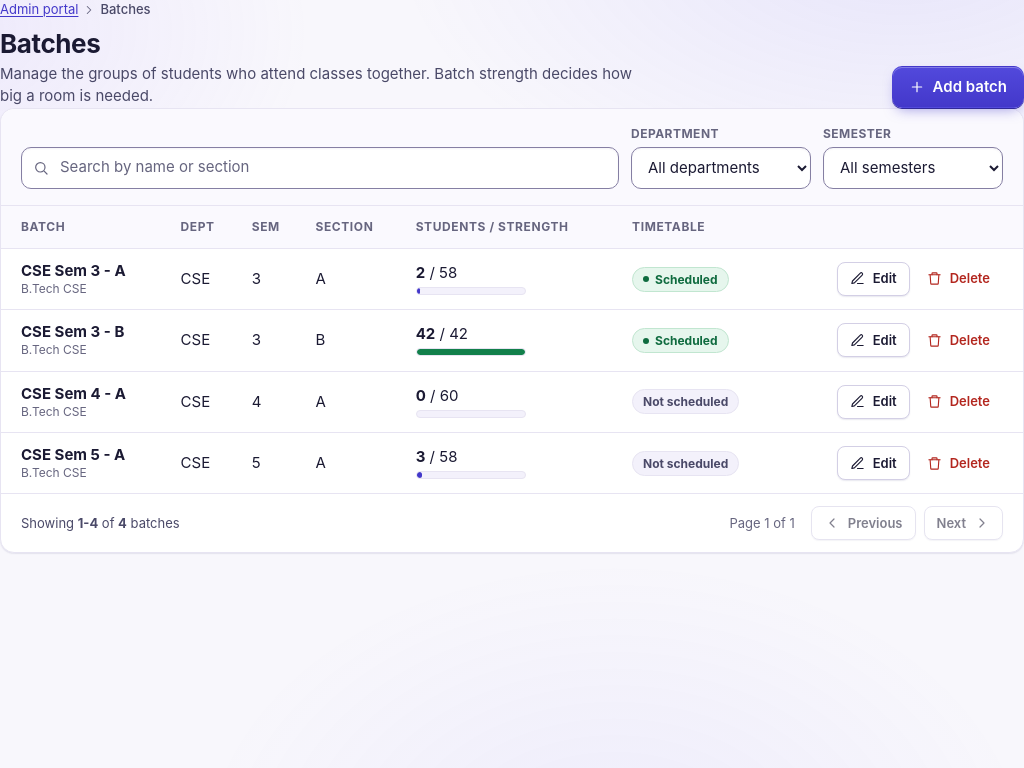
Test: Batches screen - create (DIY-TC04) › reports every missing field and sends nothing
The image size is (1024, 768).
Step 1. Click the button "Add batch" → point(958, 87), box x1=892 y1=66 x2=1023 y2=108
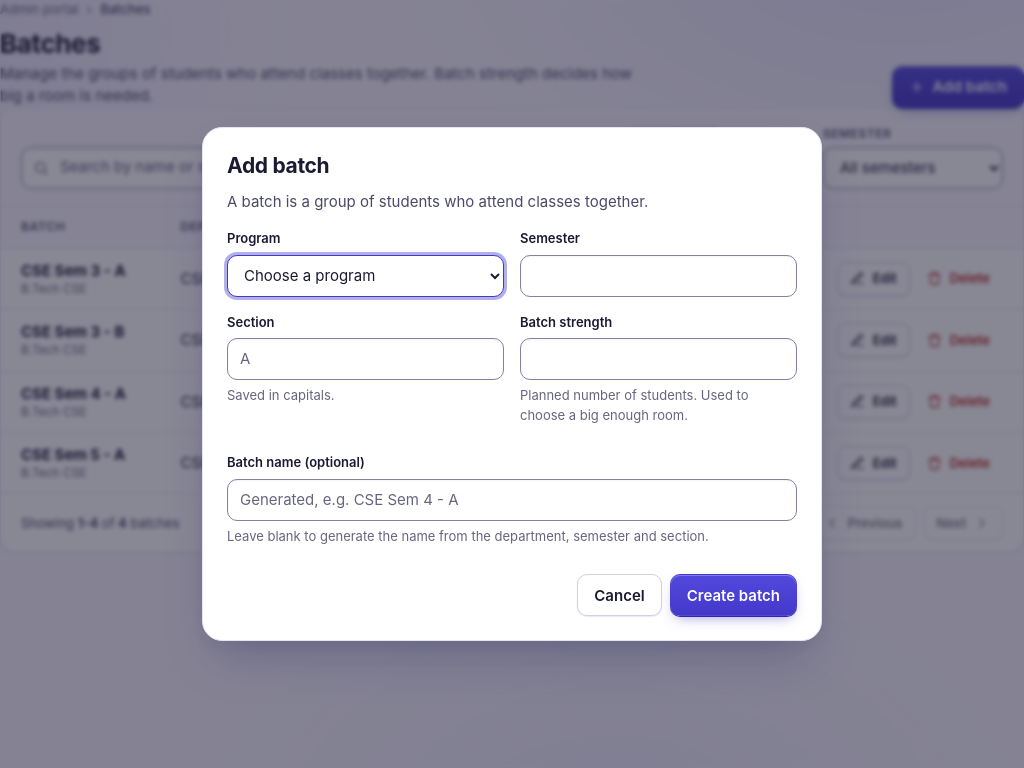
Step 2. Click the button "Create batch" → point(733, 595), box x1=670 y1=574 x2=797 y2=616
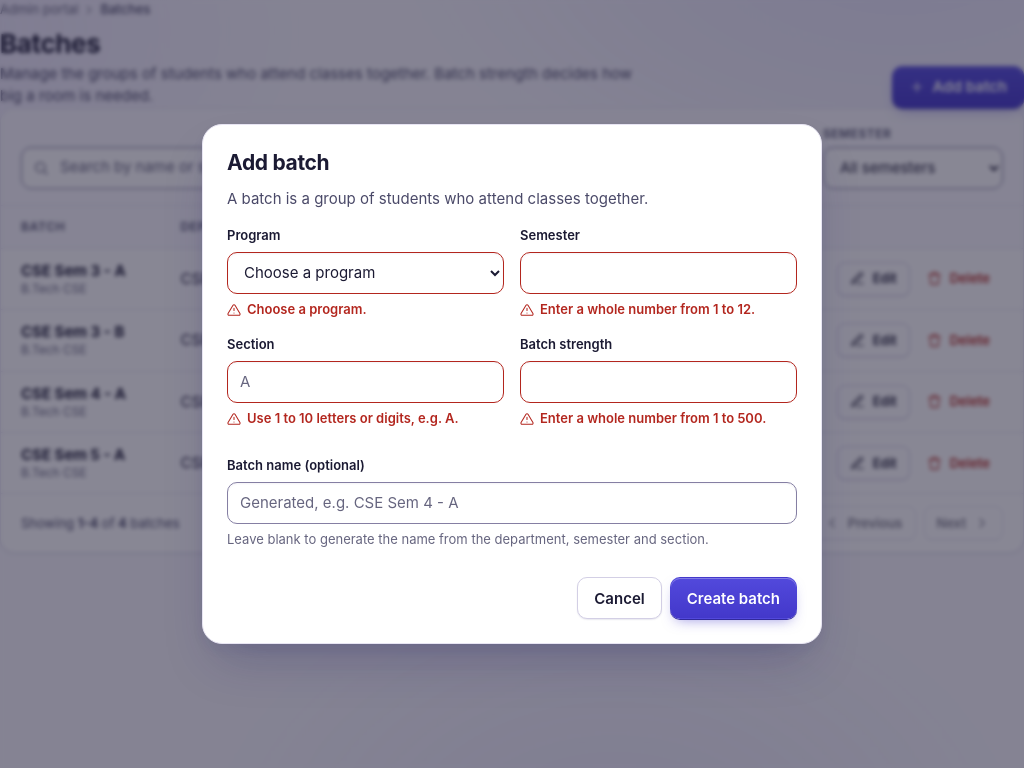
Now the text "Choose a program." is shown, box x1=227 y1=301 x2=367 y2=317
Now the text "Enter a whole number from 1 to 12." is shown, box x1=520 y1=301 x2=755 y2=317
Now the text "Use 1 to 10 letters or digits, e.g. A." is shown, box x1=227 y1=410 x2=459 y2=426
